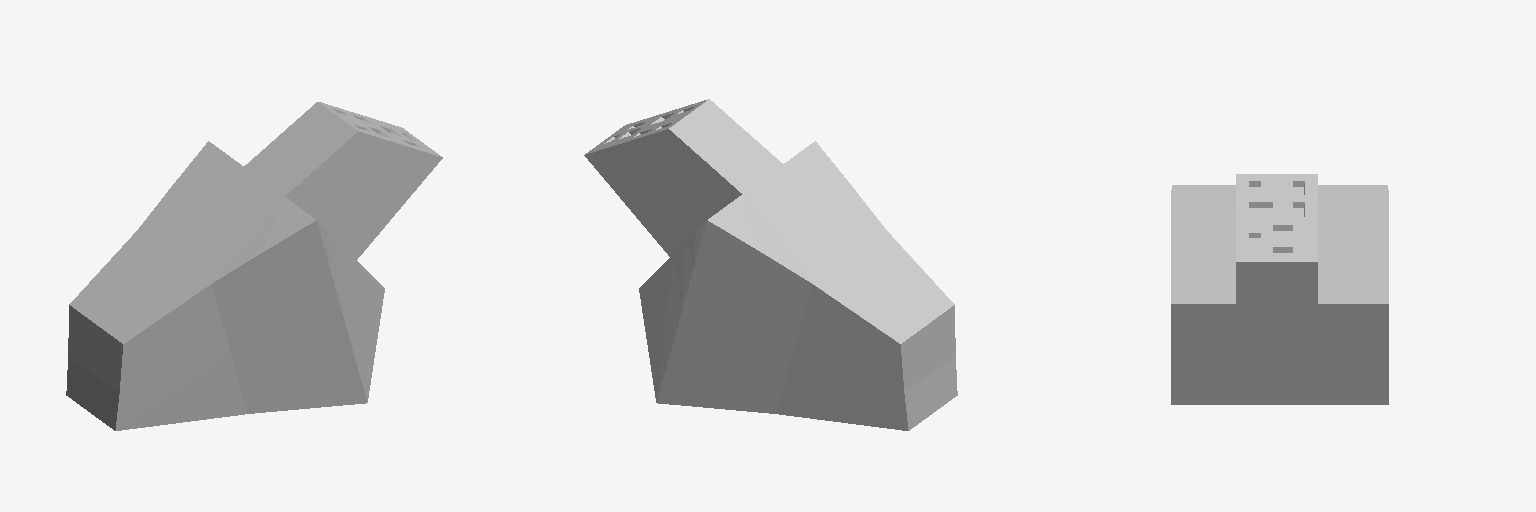
Rendered from diverHead.obj.
The picture shows the model from 3 angles: view 1: azimuth 30°, elevation 25°; view 2: azimuth 150°, elevation 25°; view 3: azimuth 270°, elevation 25°; orthographic projection.
Size of the model in its own units: 6.23 by 4.37 by 3.56.